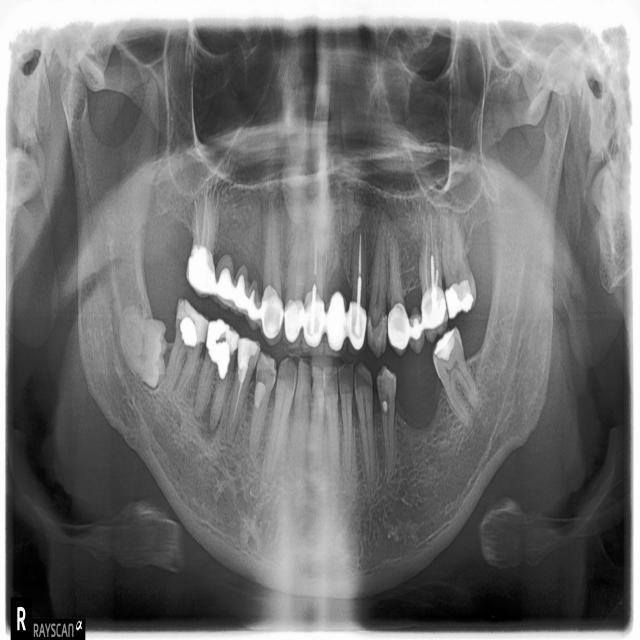mandibula: (61, 65, 573, 600)
